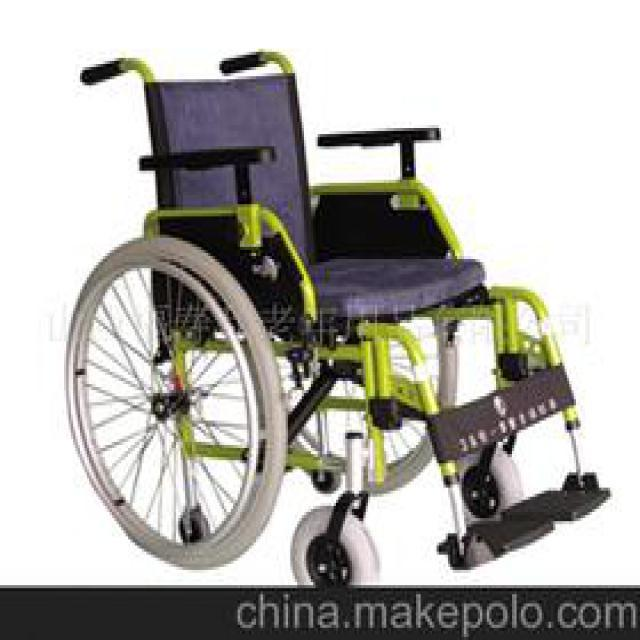wheelchair: (57, 21, 606, 582)
